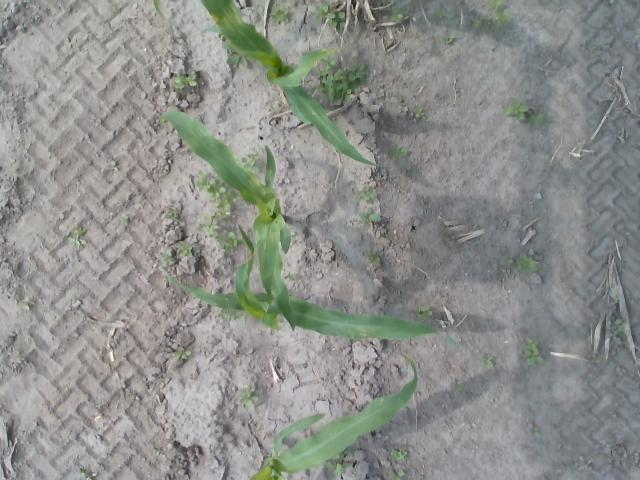Maize: (160, 223, 467, 354), (154, 0, 375, 167), (164, 110, 303, 333), (250, 355, 417, 480)
Weeds: (321, 67, 369, 100), (492, 0, 510, 26), (525, 338, 541, 362), (506, 103, 528, 120), (172, 72, 198, 86), (240, 388, 258, 407), (194, 174, 216, 189), (610, 314, 624, 336), (218, 200, 235, 218), (315, 6, 334, 22), (198, 220, 218, 234), (360, 208, 380, 221), (522, 256, 538, 271), (210, 184, 227, 198), (181, 241, 196, 256), (273, 8, 289, 22), (332, 11, 346, 27), (528, 107, 542, 123), (415, 304, 433, 316), (368, 253, 382, 267), (242, 157, 258, 169), (176, 347, 192, 359), (392, 446, 408, 458), (322, 58, 336, 70), (167, 210, 181, 222), (330, 462, 344, 474), (362, 186, 373, 200), (391, 146, 406, 156), (388, 13, 404, 22), (230, 232, 240, 246), (487, 354, 497, 368), (436, 8, 446, 22), (72, 236, 85, 246), (122, 213, 130, 227), (111, 162, 121, 172), (502, 260, 514, 268), (76, 226, 86, 235), (474, 18, 483, 28), (414, 112, 425, 120), (444, 36, 454, 44)
